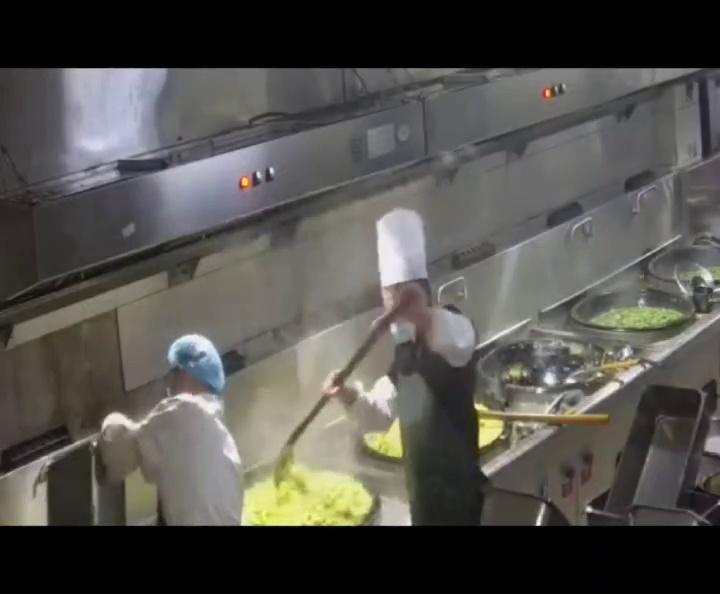gloves: (168, 332, 234, 388)
